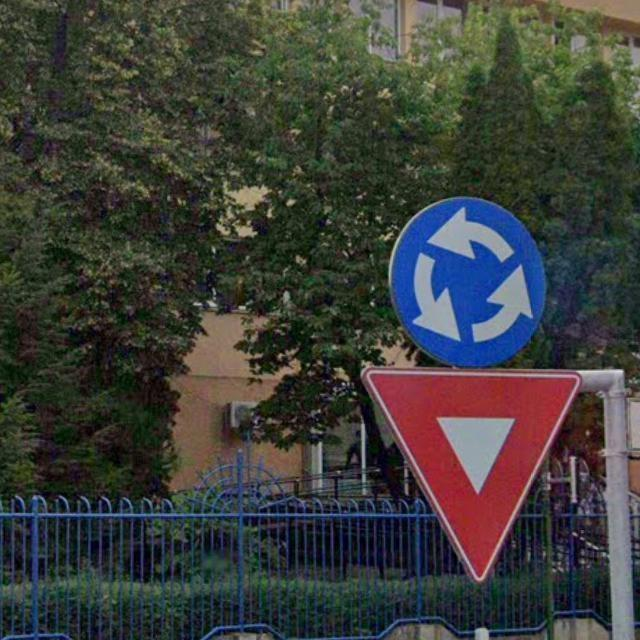prio_give_way: (358, 359, 576, 585)
